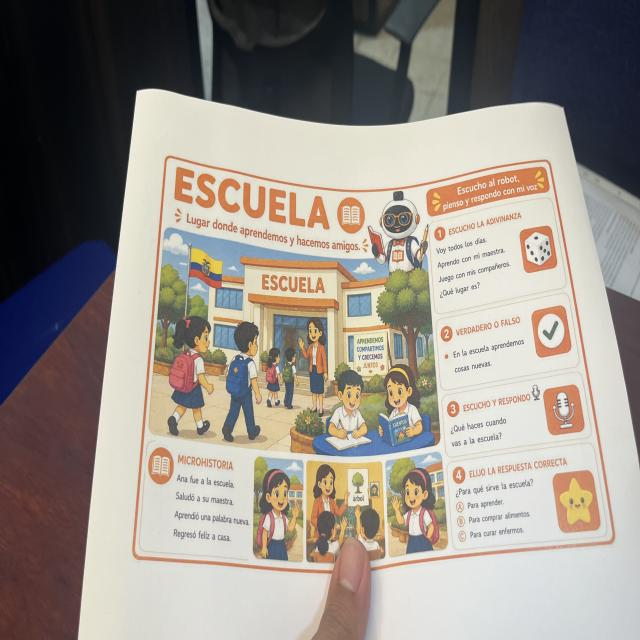escuela: (129, 150, 618, 582)
